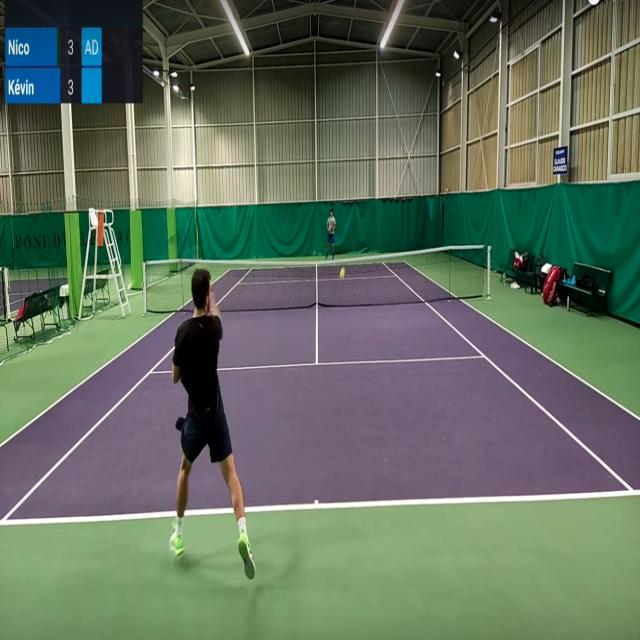ball: (339, 266, 346, 280)
